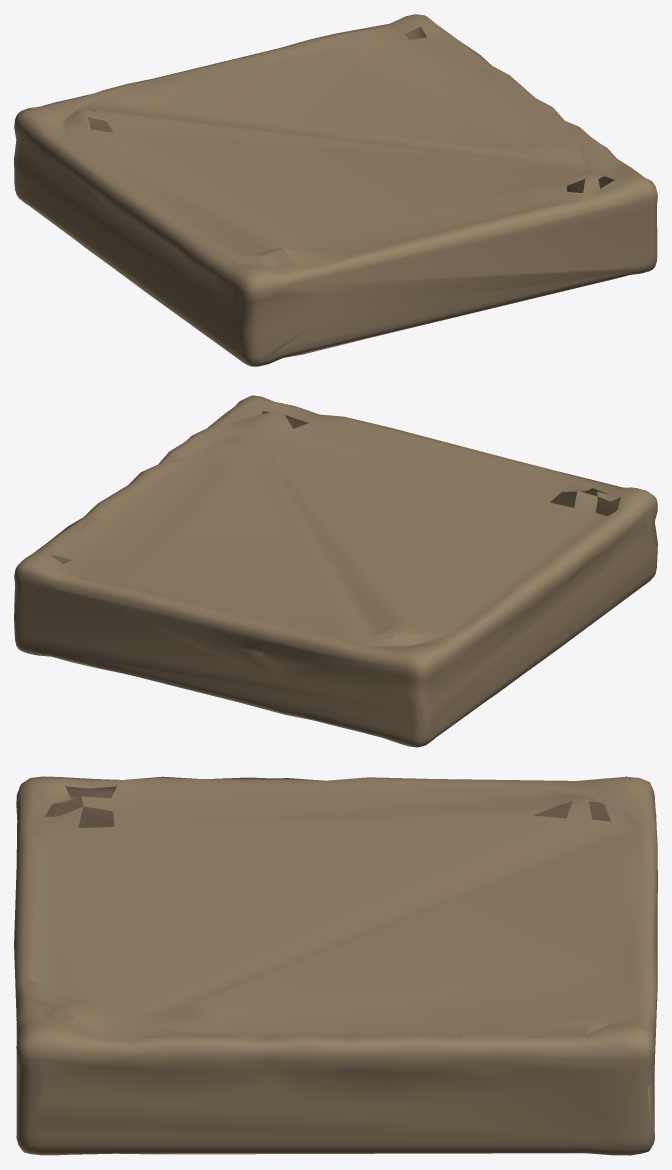
Rendered from baldosa_de_piedra.glb.
The picture shows the model from 3 angles, top to bottom: view 1: azimuth 30°, elevation 25°; view 2: azimuth 150°, elevation 25°; view 3: azimuth 270°, elevation 25°; orthographic projection. The views are drawn at different scales.
Parts seen in each view (by area): view 1: baldosa_de_piedra; view 2: baldosa_de_piedra; view 3: baldosa_de_piedra.
Boxes of the visible parts, x1,y1,x2,y2 form: baldosa_de_piedra: (14,14,657,366); baldosa_de_piedra: (14,395,657,747); baldosa_de_piedra: (14,776,657,1155).
Bounding box in the file's own units: 1.2 × 0.2592 × 1.2.
1 material, 1 textured.
